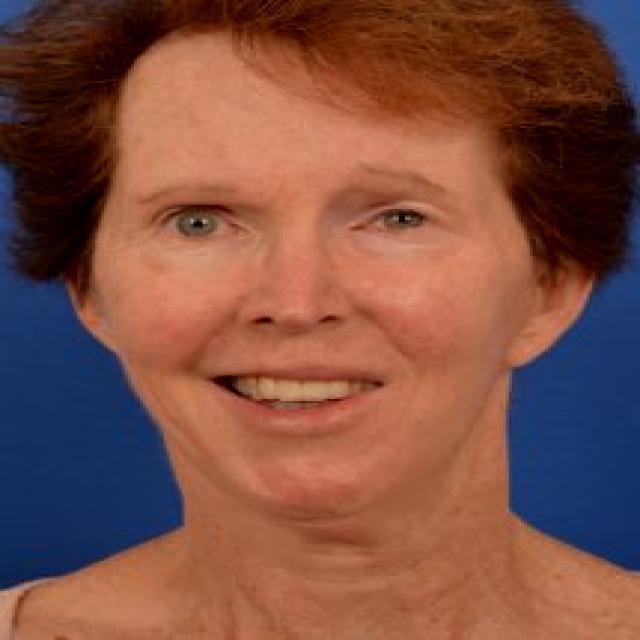stroke_face: (55, 18, 551, 525)
